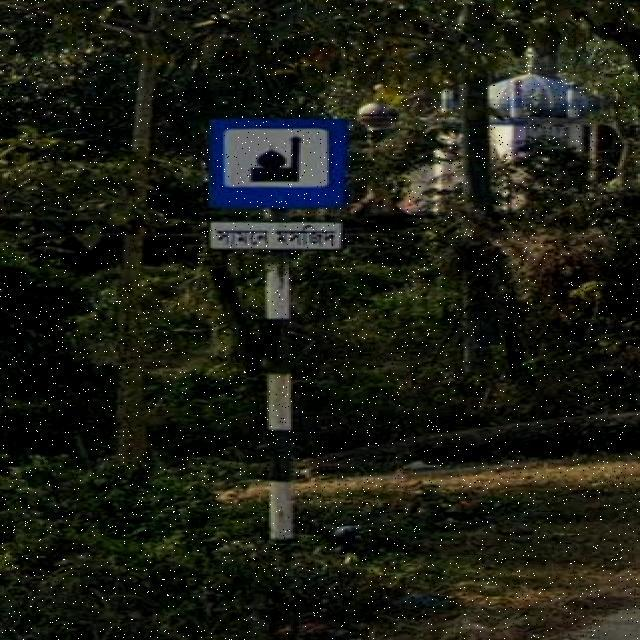Mosque in front: (203, 117, 353, 255)
